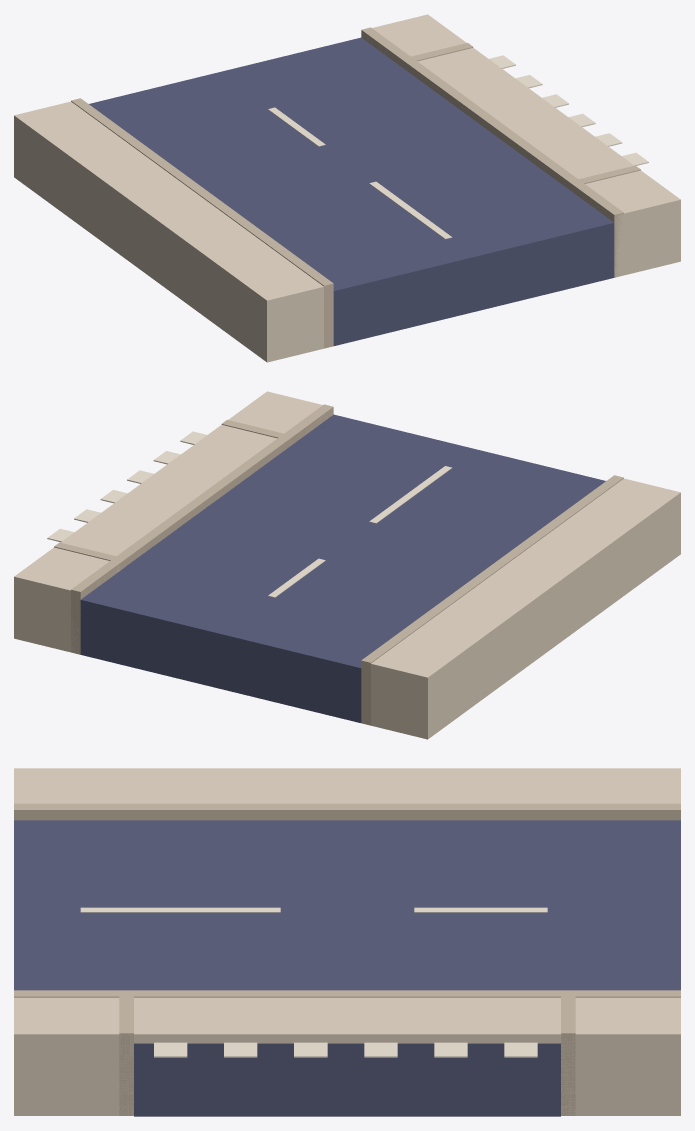
The model's file is road_t.glb.
The picture shows the model from 3 angles, top to bottom: view 1: azimuth 30°, elevation 25°; view 2: azimuth 150°, elevation 25°; view 3: azimuth 270°, elevation 25°; orthographic projection. The views are drawn at different scales.
Visible parts, largest first — view 1: road_t; view 2: road_t; view 3: road_t.
Part boxes in pixels (x1,y1,x2,y2): road_t: (14,14,680,362); road_t: (14,391,680,739); road_t: (14,768,680,1116).
Size of the model in its own units: 9.92 by 1.37 by 10.
